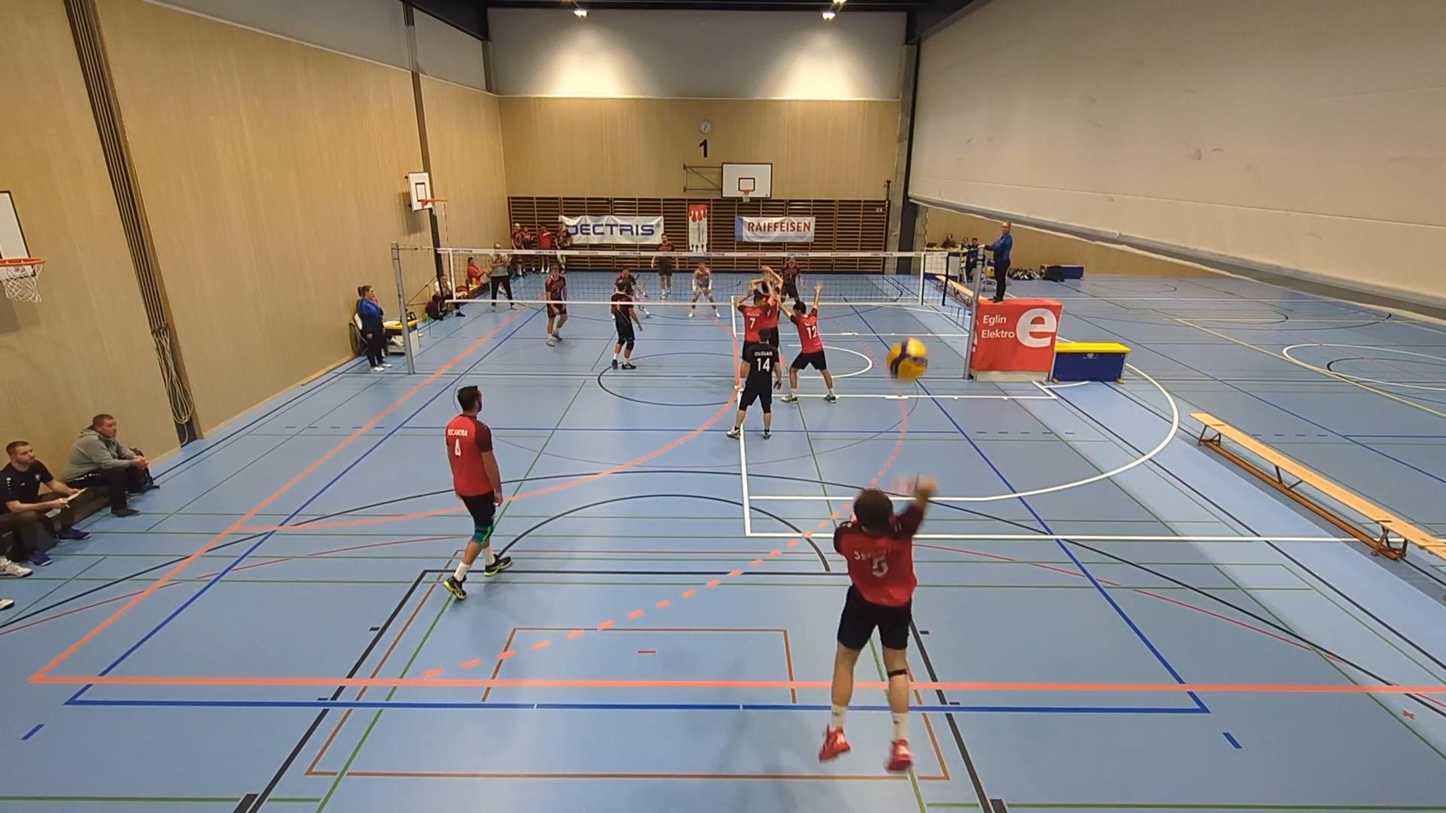Player: (444, 386, 511, 599), (782, 283, 837, 403), (728, 342, 782, 439), (734, 280, 767, 389), (610, 282, 641, 370), (688, 261, 719, 318), (545, 266, 567, 346), (759, 266, 781, 346), (650, 234, 675, 300), (615, 268, 647, 302), (779, 257, 801, 303)
Serve: (818, 468, 930, 772)
